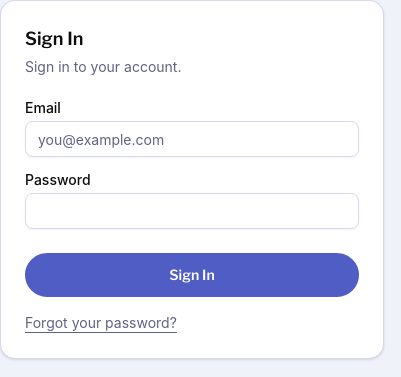
Test case: AuthPage › ResetPasswordForm › shows the error from the API when reset fails
Click the button "Forgot your password?". click: click(101, 323)
box: [25,313,177,333]
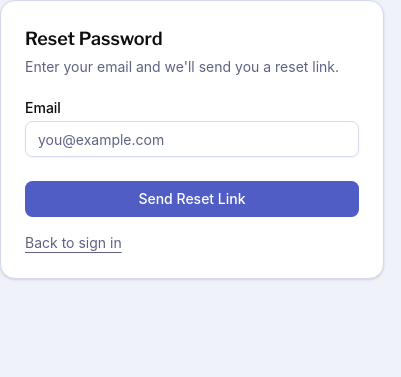
Submit the form "Email Send Reset Link", box [25,101,359,217]
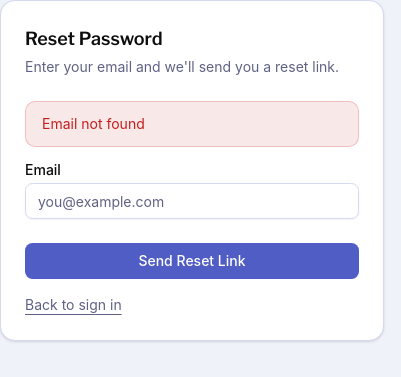
Check: the message reads "Email not found", box [42,115,145,132]
